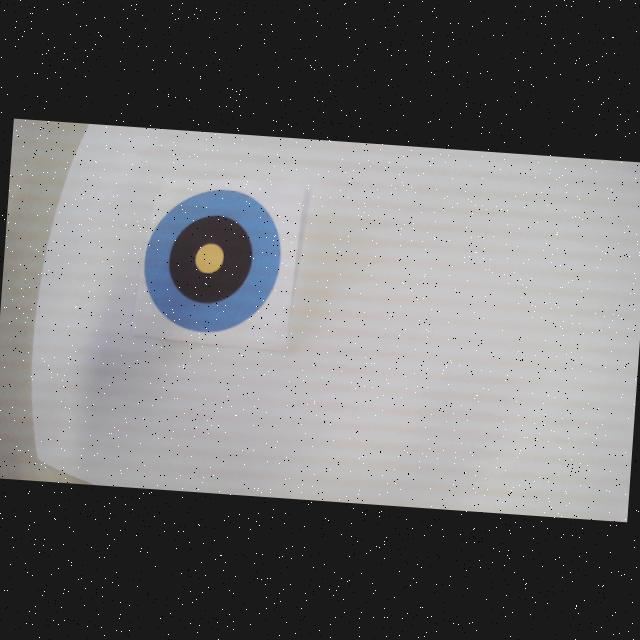COGNITIVE: (138, 182, 286, 336)
